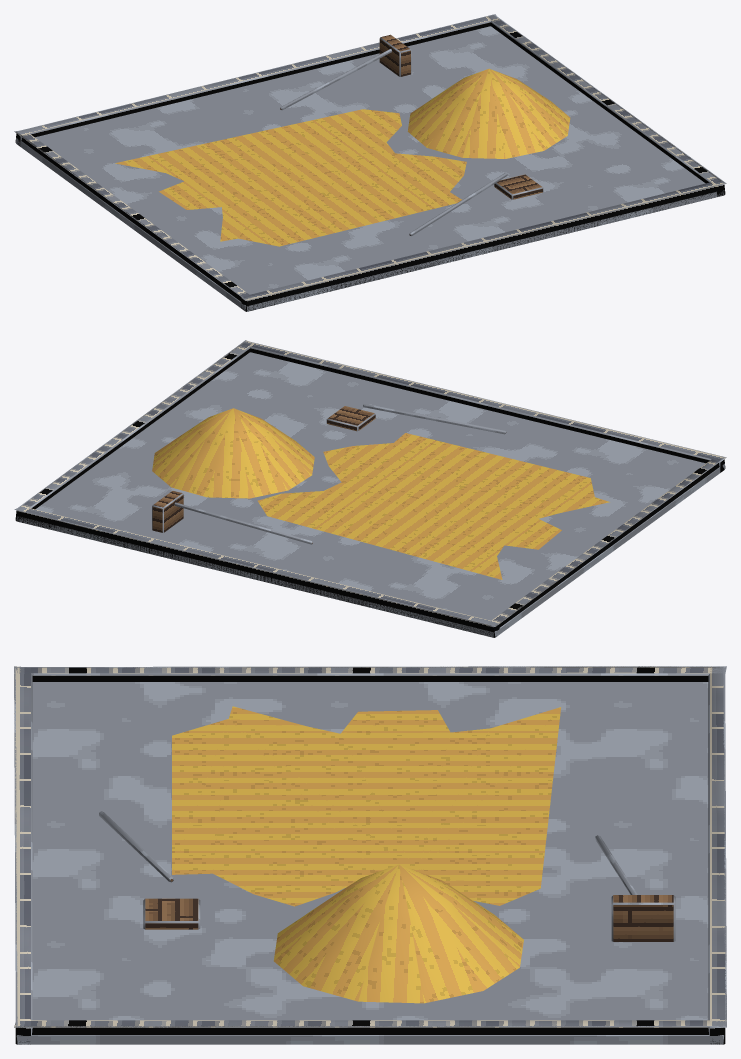
The model's file is cn_threshing_ground_0.glb.
The picture shows the model from 3 angles, top to bottom: view 1: azimuth 30°, elevation 25°; view 2: azimuth 150°, elevation 25°; view 3: azimuth 270°, elevation 25°; orthographic projection. The views are drawn at different scales.
Parts seen in each view (by area): view 1: cn_threshing_ground_1; view 2: cn_threshing_ground_1; view 3: cn_threshing_ground_1.
Part boxes in pixels (x1,y1,x2,y2): cn_threshing_ground_1: (14, 14, 726, 311); cn_threshing_ground_1: (14, 340, 726, 637); cn_threshing_ground_1: (14, 666, 726, 1044).
Size of the model in its own units: 6.03 by 0.75 by 5.03.
Materials: 5 (5 with a texture image).
